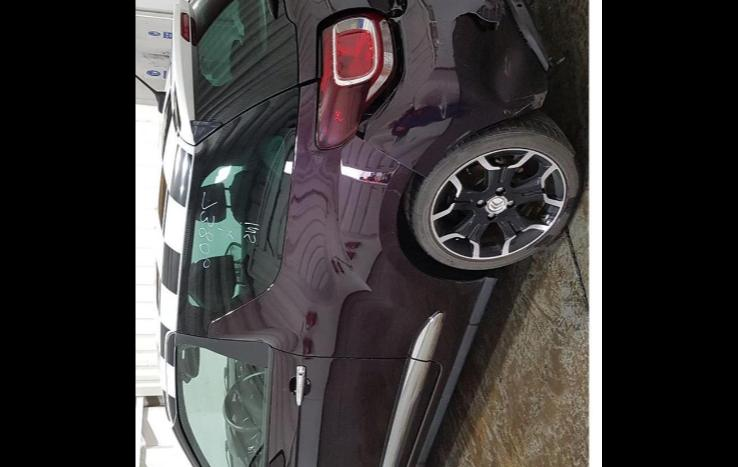Broken part: (356, 0, 554, 176), (292, 2, 388, 90)
Dent: (452, 0, 548, 110), (518, 14, 554, 70)
Scratch: (452, 10, 500, 30), (444, 128, 470, 150), (504, 92, 536, 102), (516, 98, 534, 112), (438, 94, 447, 118), (388, 188, 403, 194), (480, 0, 486, 14), (501, 0, 507, 14), (504, 54, 508, 72), (504, 106, 512, 114), (486, 0, 494, 8), (494, 2, 498, 16), (487, 8, 492, 18)
